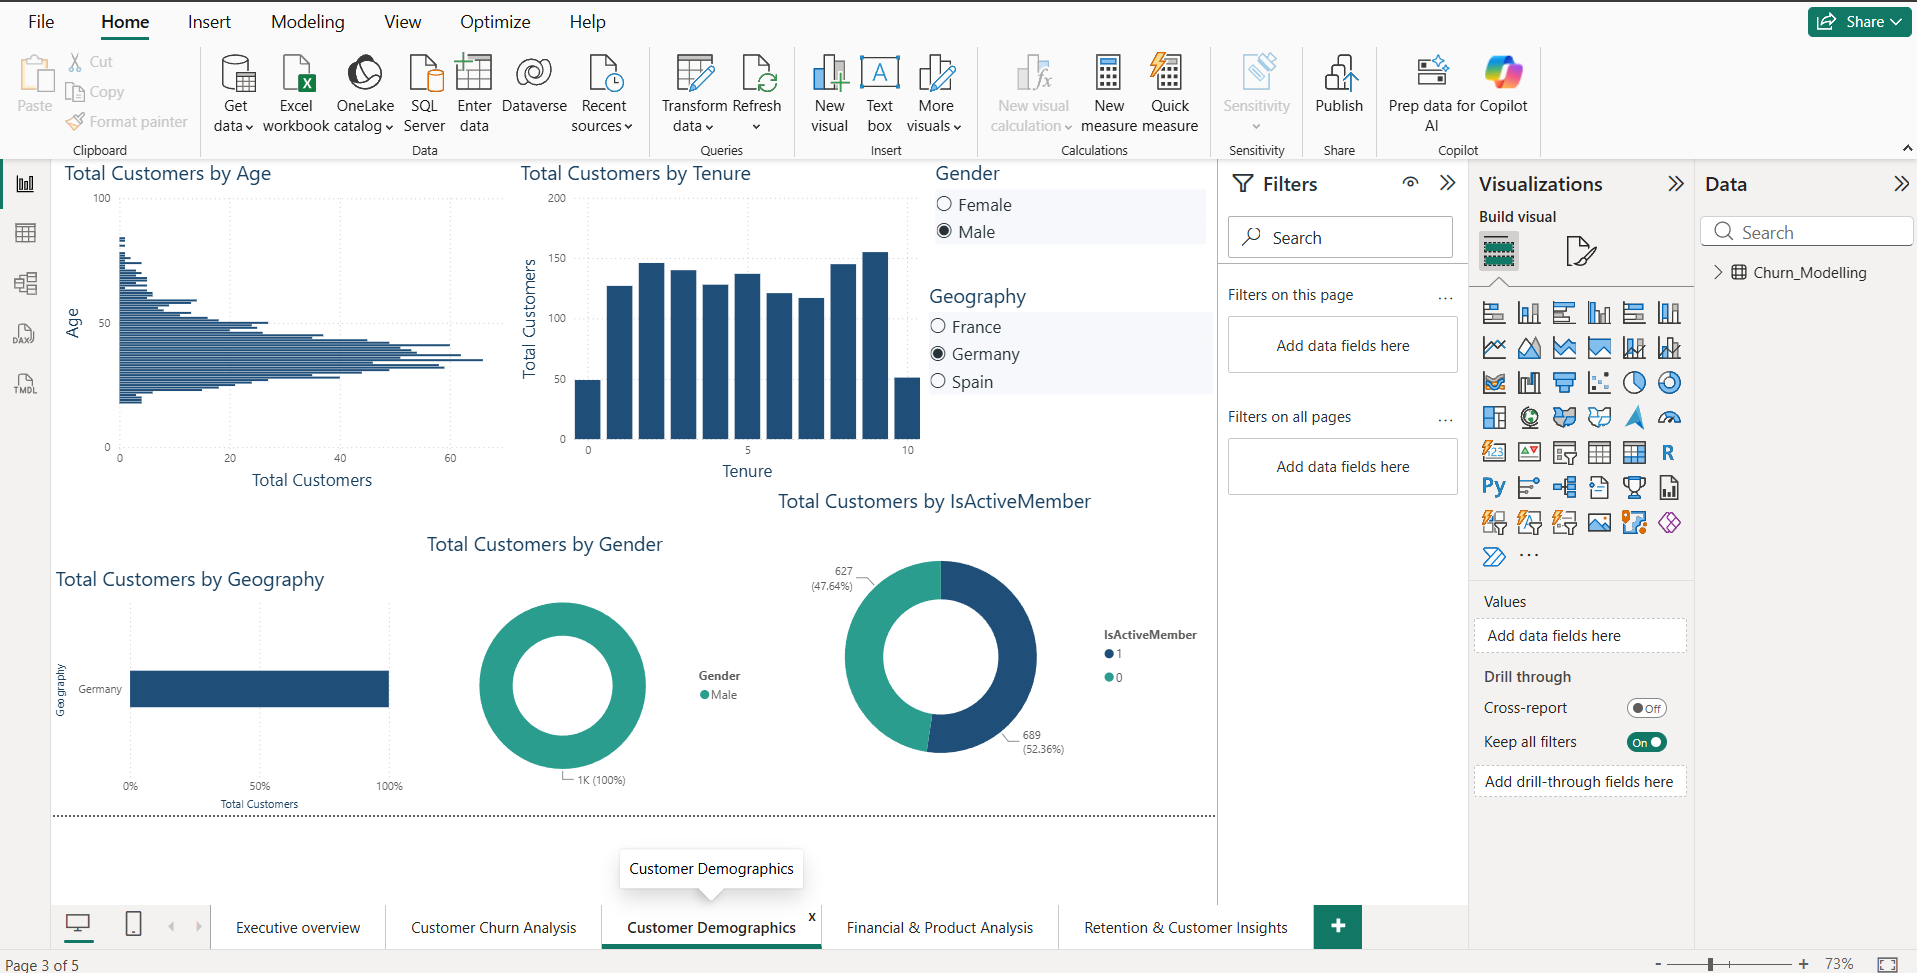

Layout of this report page (visuals, bound fields, positions):
{"tool":"powerbi","page":{"name":"Customer Demographics","canvas":[1280,720],"ordinal":2},"visuals":[{"type":"clusteredBarChart","fields":{"Y":["Churn_Modelling.Total Customers"],"Category":["Churn_Modelling.Age"]},"box":[9.6,0,500.9,369.1],"z":0},{"type":"donutChart","fields":{"Category":["Churn_Modelling.Gender"],"Y":["Churn_Modelling.Total Customers"]},"box":[407.5,407.5,374.6,312.9],"z":1000},{"type":"hundredPercentStackedBarChart","fields":{"Category":["Churn_Modelling.Geography"],"Y":["Churn_Modelling.Total Customers"]},"box":[0,446,391.1,274.4],"z":2000},{"type":"columnChart","fields":{"Category":["Churn_Modelling.Tenure"],"Y":["Churn_Modelling.Total Customers"]},"box":[510.5,0,448.7,359.5],"z":3000},{"type":"donutChart","fields":{"Category":["Churn_Modelling.IsActiveMember"],"Y":["Churn_Modelling.Total Customers"]},"box":[793.1,359.5,485.8,345.8],"z":4000},{"type":"listSlicer","fields":{"Values":["Churn_Modelling.Geography"]},"box":[959.2,134.5,321.1,188],"z":5000},{"type":"listSlicer","fields":{"Values":["Churn_Modelling.Gender"]},"box":[966,0,307.4,118],"z":6000}]}

Visuals, with their boxes on the page's 1280x720 design canvas (x1, y1, x2, y2). These are canvas units, not pixel positions in the 1917x973 screenshot, which may show the page scaled, cropped or inside an application window:
clusteredBarChart - Churn_Modelling.Total Customers x Churn_Modelling.Age: select_region(10, 0, 510, 369)
donutChart - Churn_Modelling.Gender x Churn_Modelling.Total Customers: select_region(408, 408, 782, 720)
hundredPercentStackedBarChart - Churn_Modelling.Geography x Churn_Modelling.Total Customers: select_region(0, 446, 391, 720)
columnChart - Churn_Modelling.Tenure x Churn_Modelling.Total Customers: select_region(510, 0, 959, 360)
donutChart - Churn_Modelling.IsActiveMember x Churn_Modelling.Total Customers: select_region(793, 360, 1279, 705)
listSlicer - Churn_Modelling.Geography: select_region(959, 134, 1280, 322)
listSlicer - Churn_Modelling.Gender: select_region(966, 0, 1273, 118)
